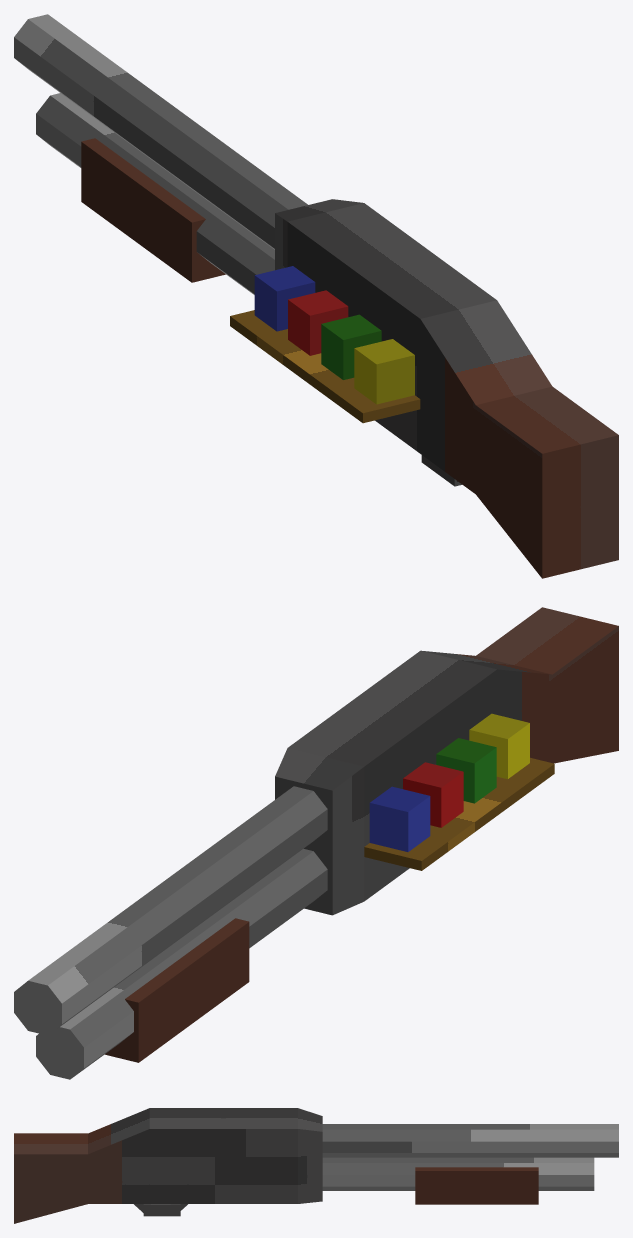
The model's file is DiceShotgun.gltf.
3 views of the same model, one above another, from view 1: azimuth 30°, elevation 25°; view 2: azimuth 150°, elevation 25°; view 3: azimuth 270°, elevation 25° (orthographic). The views are drawn at different scales.
Parts seen in each view (by area): view 1: Body, cylinder (×2), Stock (×2), Dice4, Dice1, Dice2, Dice3; view 2: Body, cylinder (×2), Stock (×2), Dice1, Dice2, Dice4, Dice3; view 3: Body, cylinder (×2), Stock, Handle middle.
Part boxes in pixels (bbox=[...]): Body: bbox=[275, 199, 618, 578]; cylinder (×2): bbox=[14, 14, 307, 294]; Stock (×2): bbox=[81, 138, 420, 423]; Dice4: bbox=[354, 339, 414, 404]; Dice1: bbox=[254, 266, 315, 331]; Dice2: bbox=[288, 290, 348, 355]; Dice3: bbox=[321, 314, 381, 379]; Body: bbox=[275, 607, 618, 915]; cylinder (×2): bbox=[14, 786, 327, 1079]; Stock (×2): bbox=[105, 757, 554, 1062]; Dice1: bbox=[369, 786, 430, 851]; Dice2: bbox=[403, 762, 463, 827]; Dice4: bbox=[469, 713, 529, 779]; Dice3: bbox=[436, 738, 496, 803]; Body: bbox=[14, 1108, 322, 1223]; cylinder (×2): bbox=[322, 1124, 618, 1190]; Stock: bbox=[415, 1167, 538, 1204]; Handle middle: bbox=[143, 1204, 180, 1216].
Size of the model in its own units: 0.0875 by 0.1063 by 0.6125.
1 material, 1 textured.
